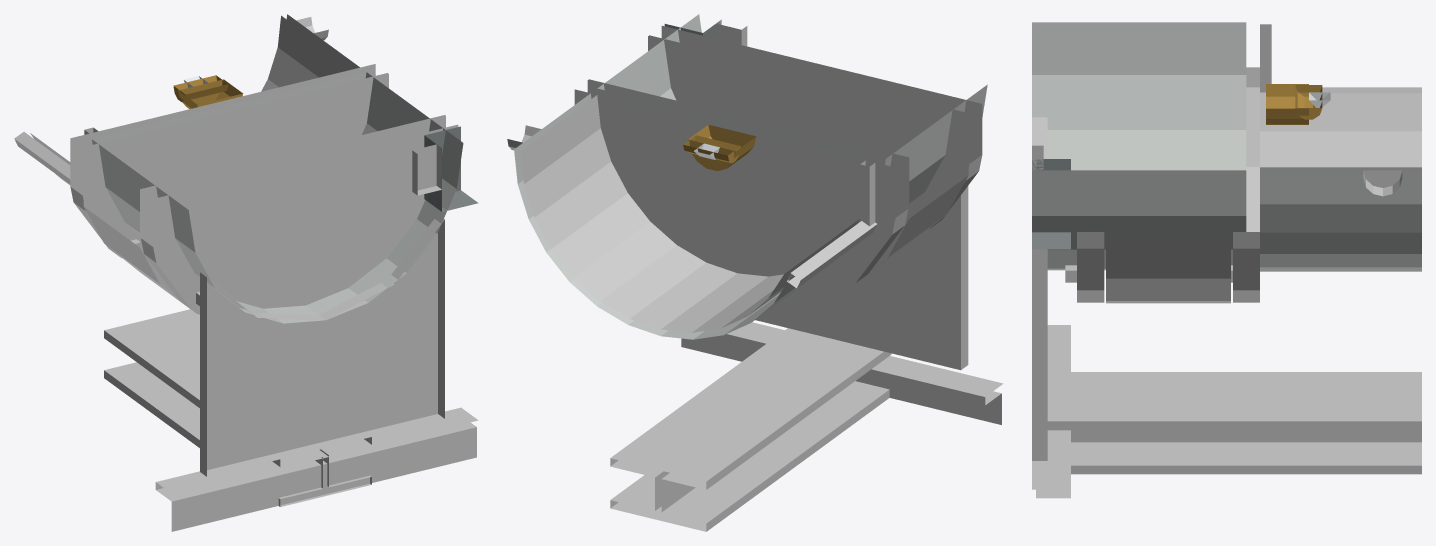
File: cell_57.obj
The picture shows the model from 3 angles, left to right: view 1: azimuth 30°, elevation 25°; view 2: azimuth 150°, elevation 25°; view 3: azimuth 270°, elevation 25°; orthographic projection. The views are drawn at different scales.
Bounding box in the file's own units: 1 × 1 × 1.
